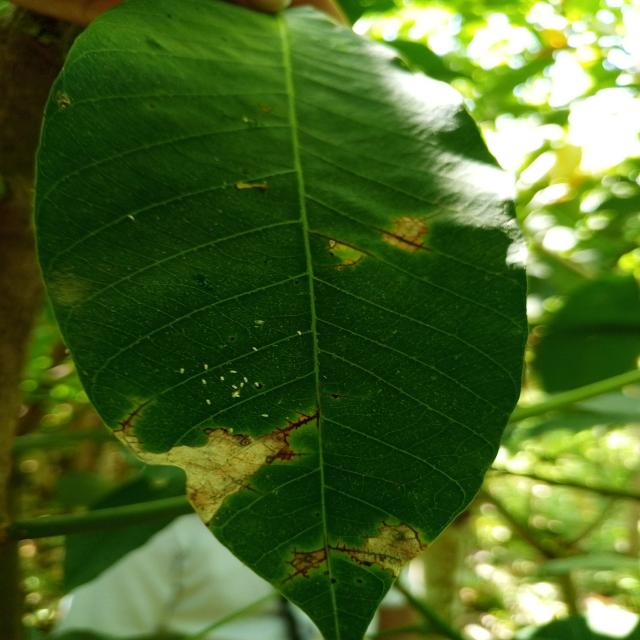Colletotrichum: (204, 427, 214, 435), (241, 438, 250, 446), (266, 456, 274, 464), (331, 578, 336, 584), (357, 579, 362, 583), (324, 570, 329, 574)
Corynespora: (280, 546, 328, 584), (274, 398, 320, 437), (372, 226, 432, 252), (112, 399, 152, 436), (315, 232, 373, 257), (326, 540, 395, 560), (311, 256, 363, 271), (275, 448, 309, 462), (321, 391, 360, 400)
Leaf-Blight: (115, 429, 287, 524), (352, 524, 427, 577)
